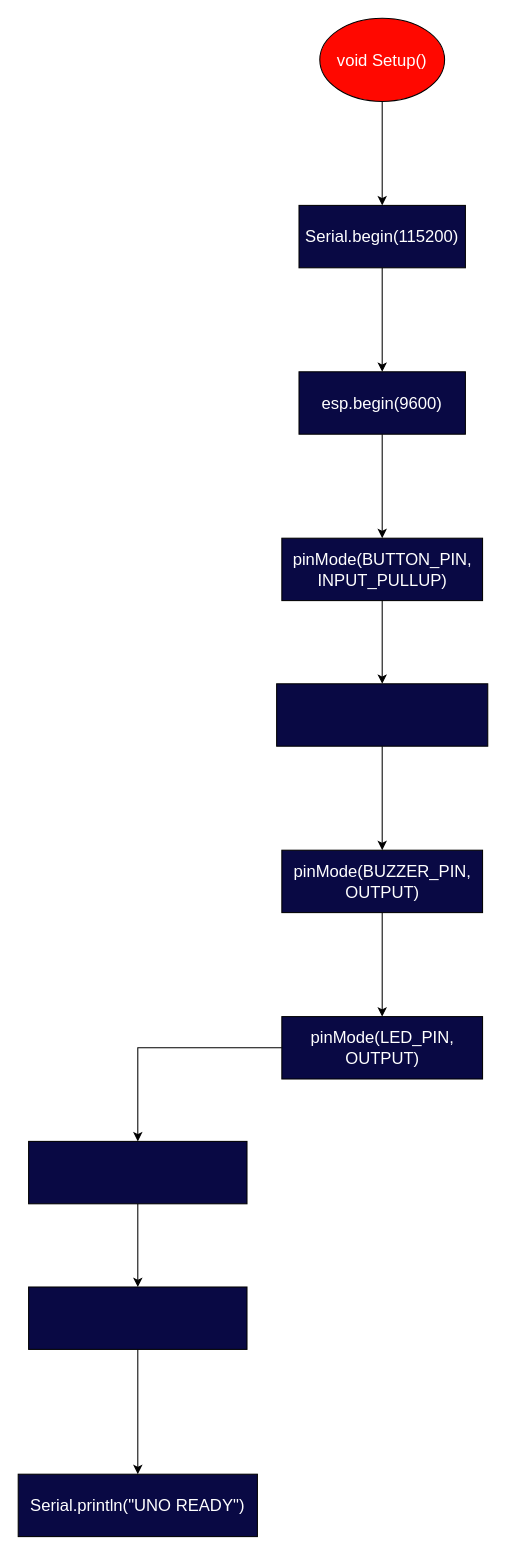
This 506x1555 diagram has some shape labels left out. The box of each missing label's shape, as (x1, y1, x2, y2) in pixels:
digitalWrite(BUZZER_PIN, LOW): (28, 1140, 247, 1204)
digitalWrite(LED_PIN, LOW): (28, 1286, 247, 1349)
pinMode(IR_PIN, INPUT): (276, 683, 488, 746)
